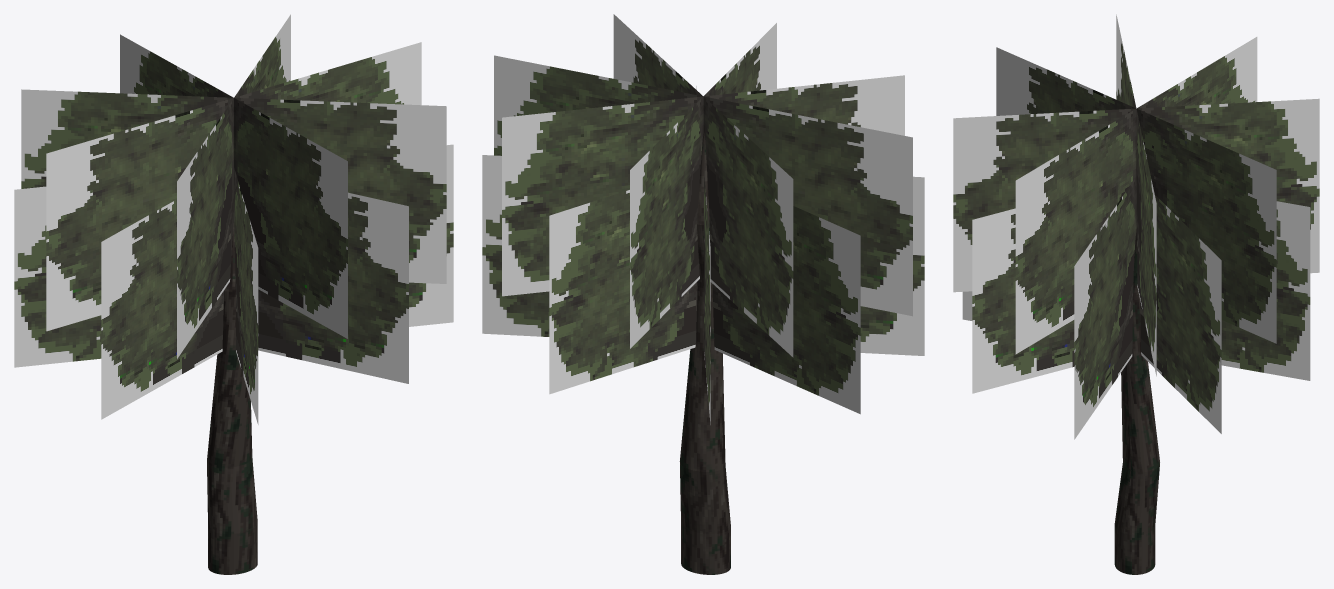
The model's file is tree2.fbx.
3 views of the same model, side by side, from view 1: azimuth 30°, elevation 25°; view 2: azimuth 150°, elevation 25°; view 3: azimuth 270°, elevation 25° (orthographic). The views are drawn at different scales.
Visible parts, largest first — view 1: Cylinder; view 2: Cylinder; view 3: Cylinder.
Part boxes in pixels (box(x1,y1,x2,y2)): Cylinder: box(14, 14, 453, 574); Cylinder: box(482, 14, 924, 574); Cylinder: box(953, 14, 1319, 574).
Bounding box in the file's own units: 631 × 710 × 516.
